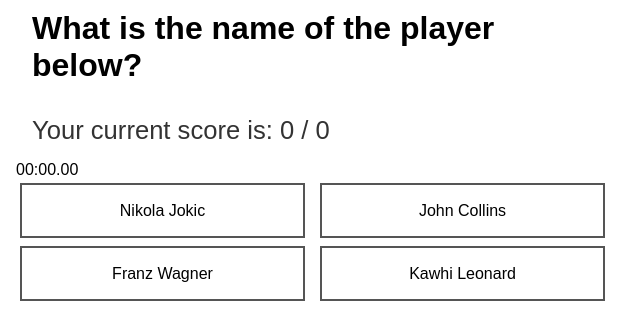
it: <PlayerNameGame /> › should give visual feedback to user when answer is right
Click the button "Nikola Jokic" at (162, 210), box [20,183,305,238]
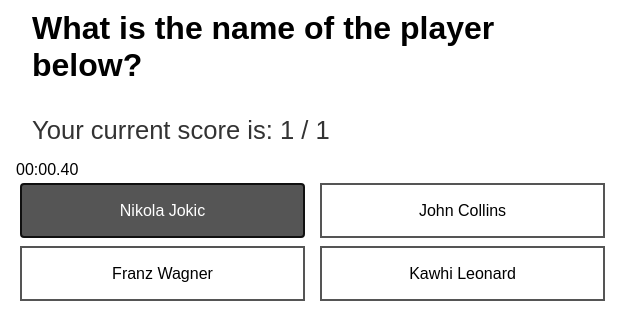
Expected: the text "1 / 1" is shown, [280,116,330,144]
